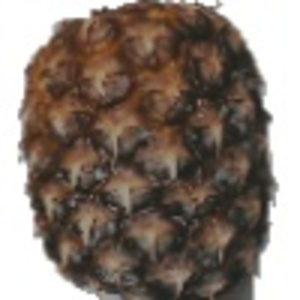abacaxi: (19, 3, 279, 292)
